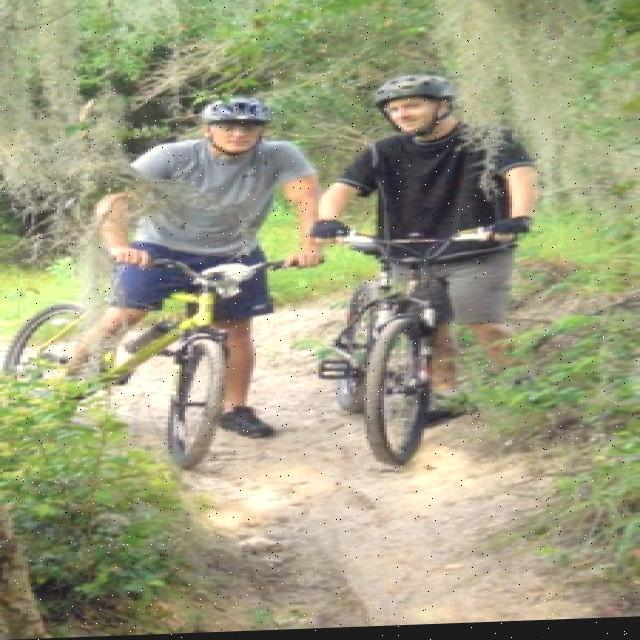Helmet: (372, 75, 470, 142), (194, 94, 282, 161)
